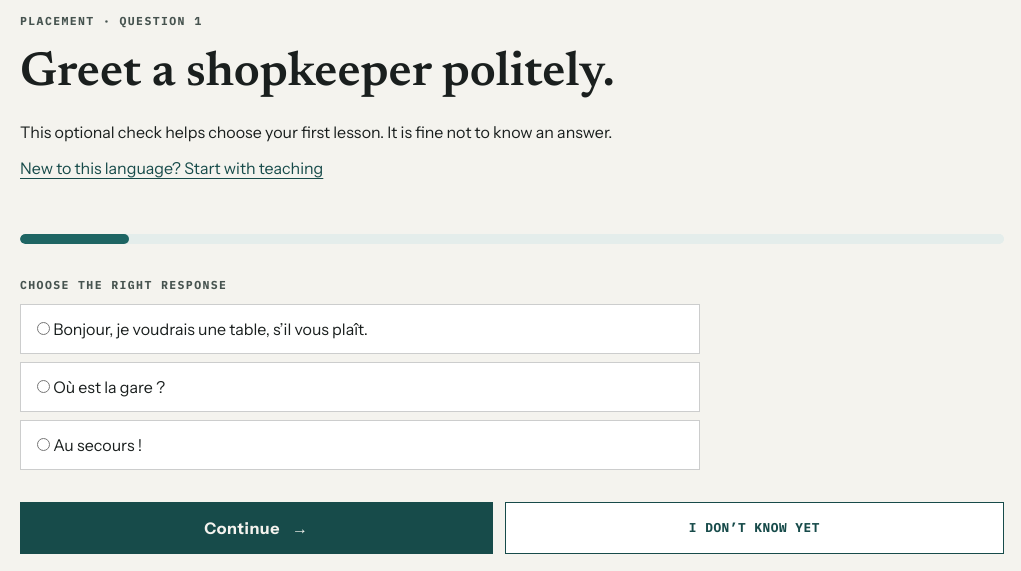
Test case: PlacementQuiz › ends early after unsuccessful foundation checks
Step 1. Click the radio button labelled "Au secours !" → (44, 444), box [37,438,50,451]
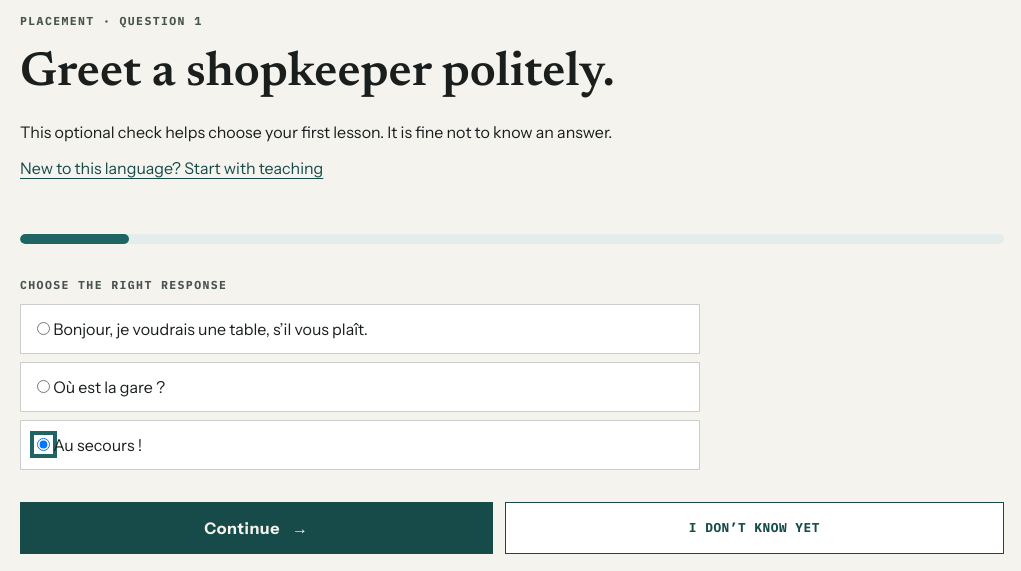
Step 2. Click the button "Continue →" → (256, 528), box [20,502,493,554]
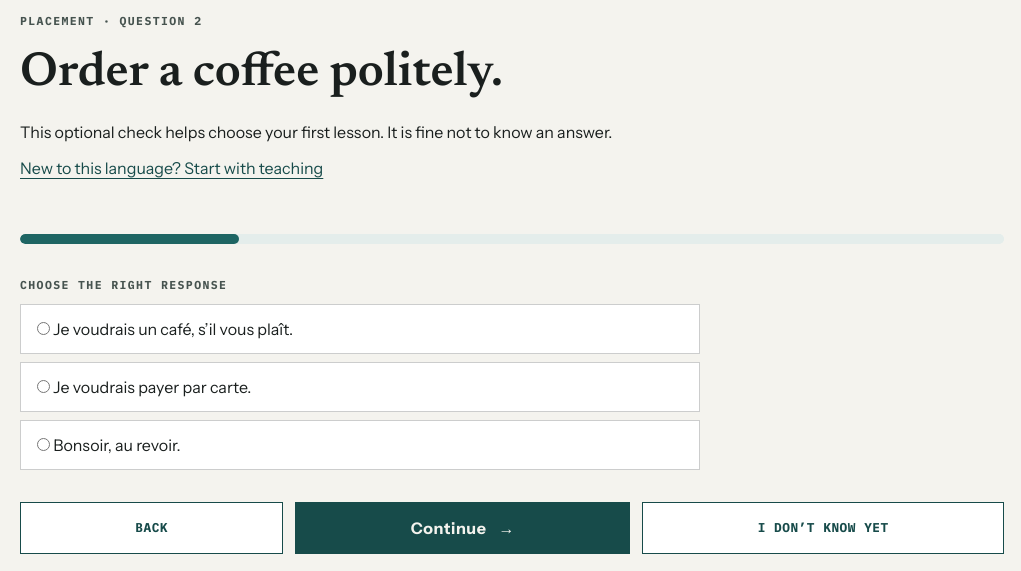
Step 3. Click the radio button labelled "Bonsoir, au revoir." → (44, 444), box [37,438,50,451]
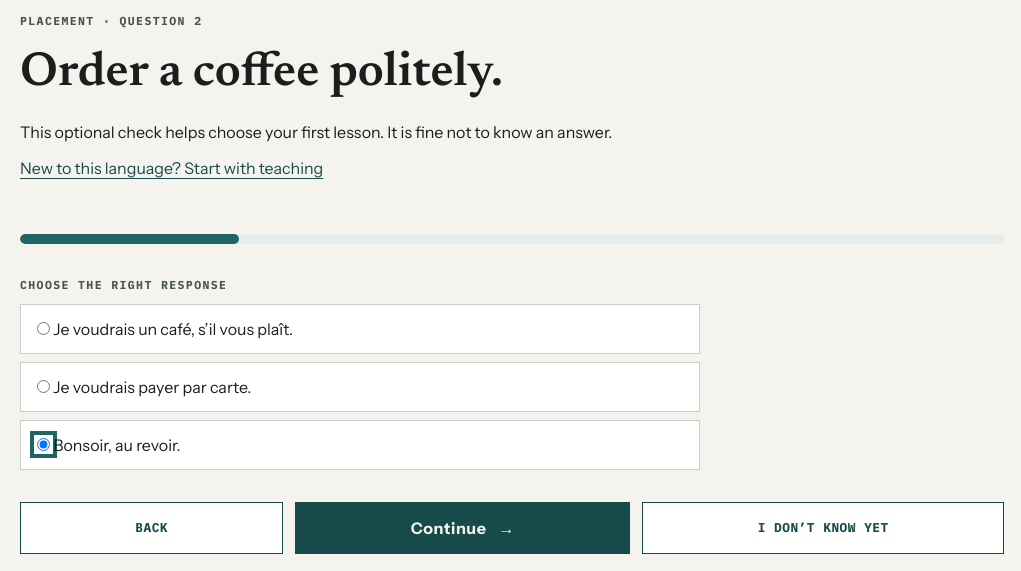
Step 4. Click the button "Continue →" → (463, 528), box [295,502,630,554]
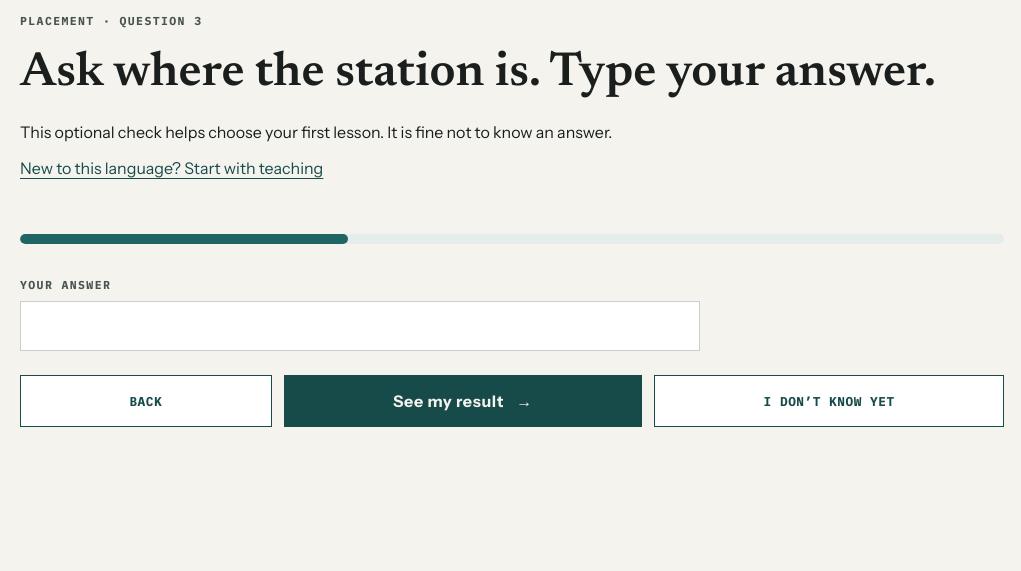
Step 5. Type "wrong answer" into the field labelled "Your answer" → (360, 326), box [20,301,700,351]
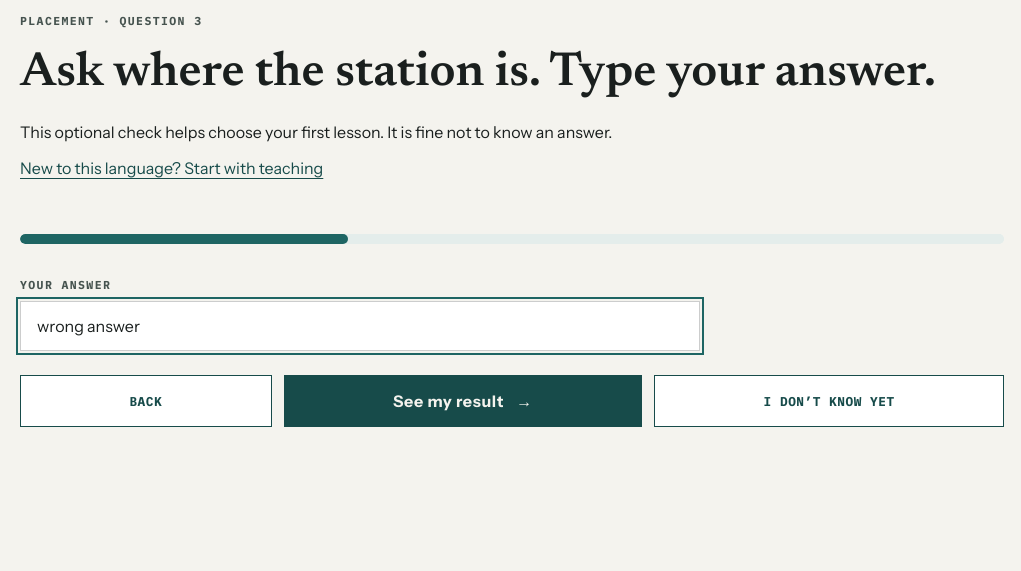
Step 6. Click the button "See my result →" → (463, 401), box [284,375,642,427]
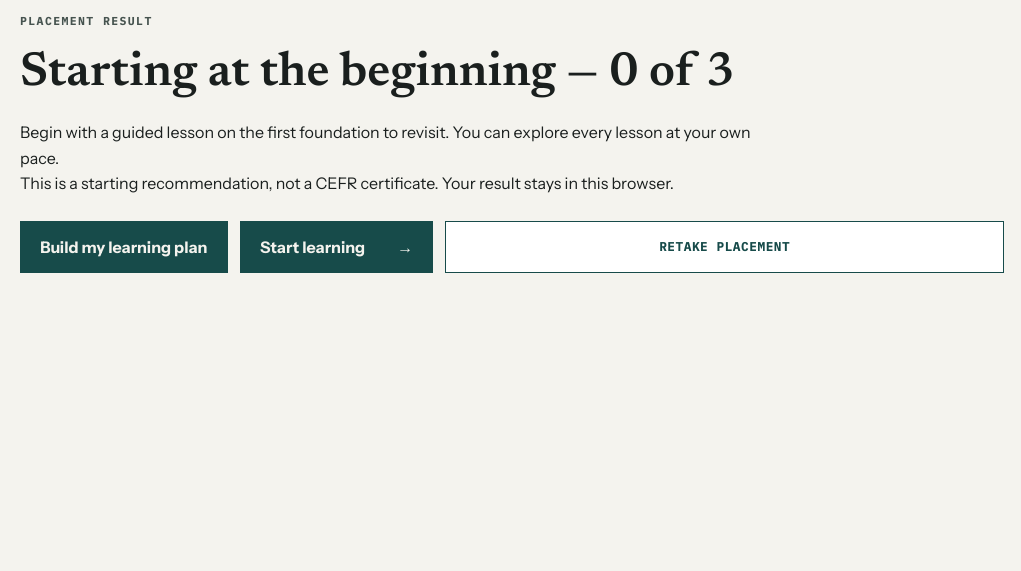
expect the heading "Starting at the beginning — 0 of 3" is shown: met, box [20,50,735,98]
